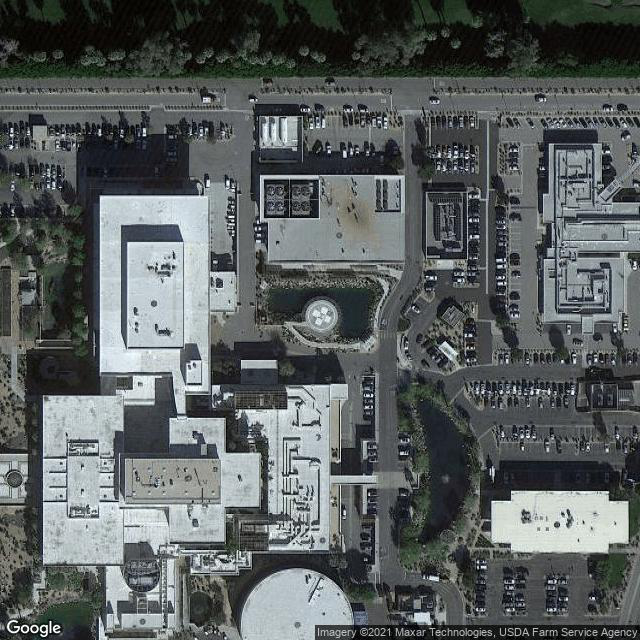Helipad: (309, 300, 334, 327)
